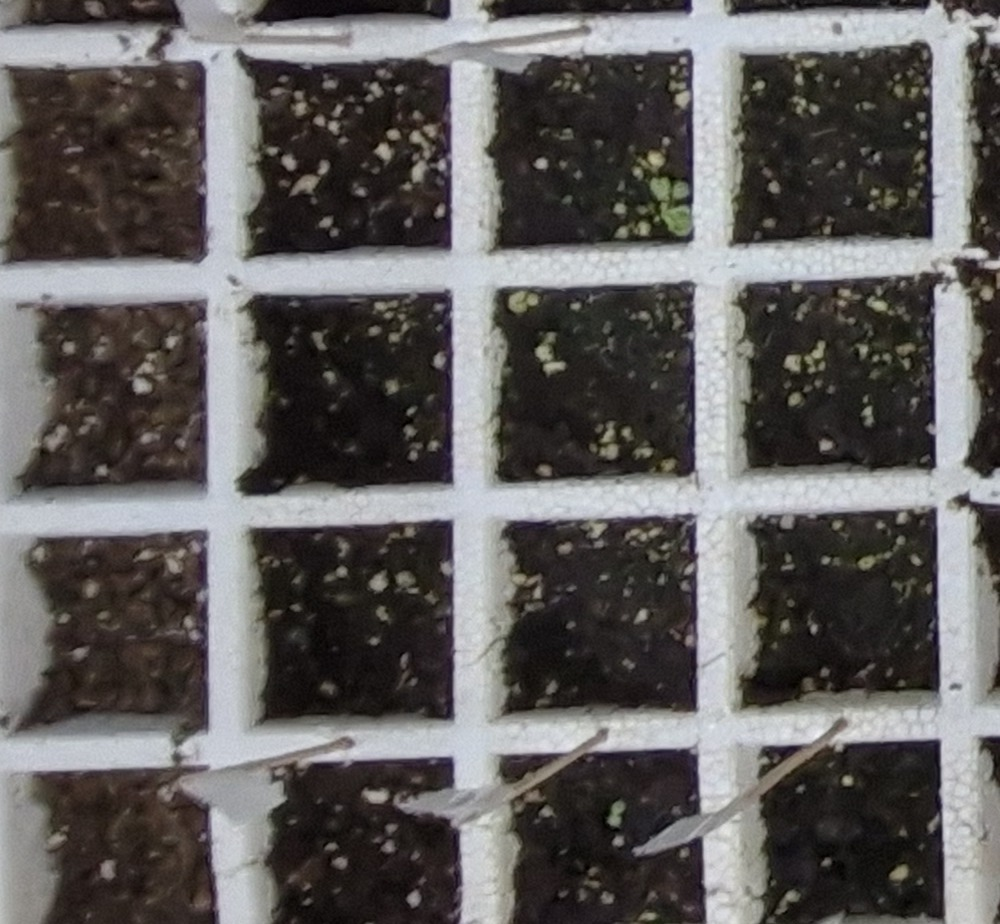Folha: (661, 205, 694, 237), (649, 175, 671, 199), (671, 181, 689, 201), (606, 814, 623, 829), (612, 801, 625, 815)
Germinacao: (649, 177, 693, 237), (606, 802, 628, 830)
